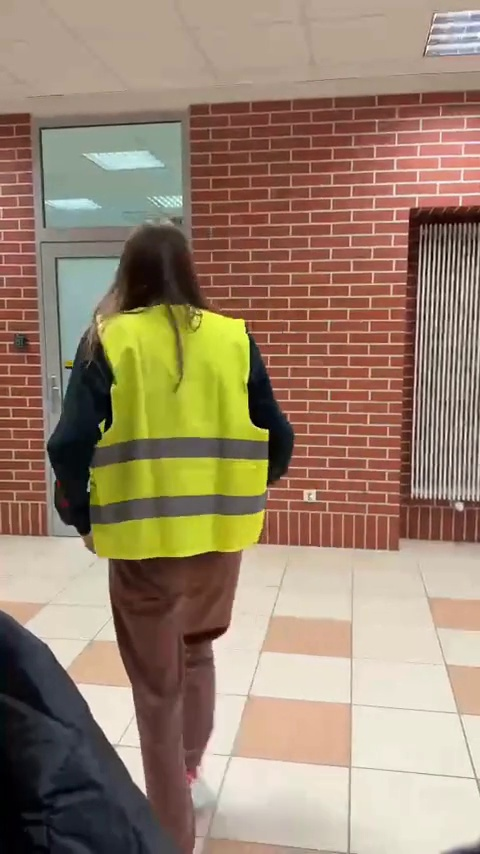vest: (42, 220, 298, 854)
